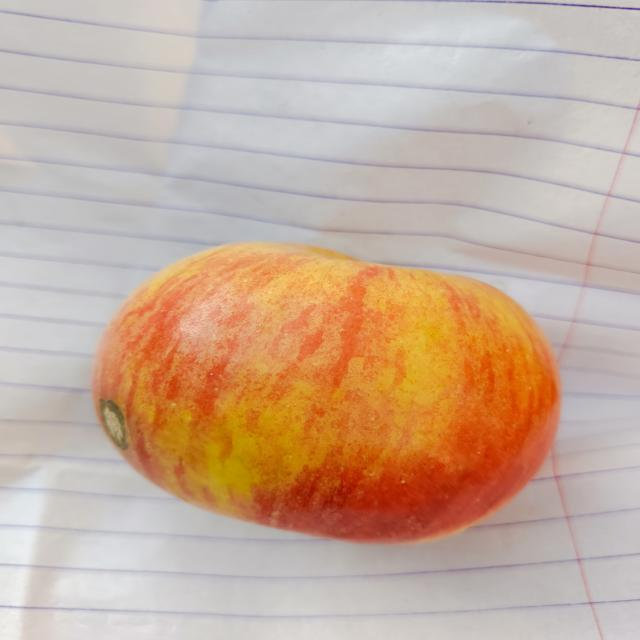Fresh Apple: (83, 228, 564, 542)
